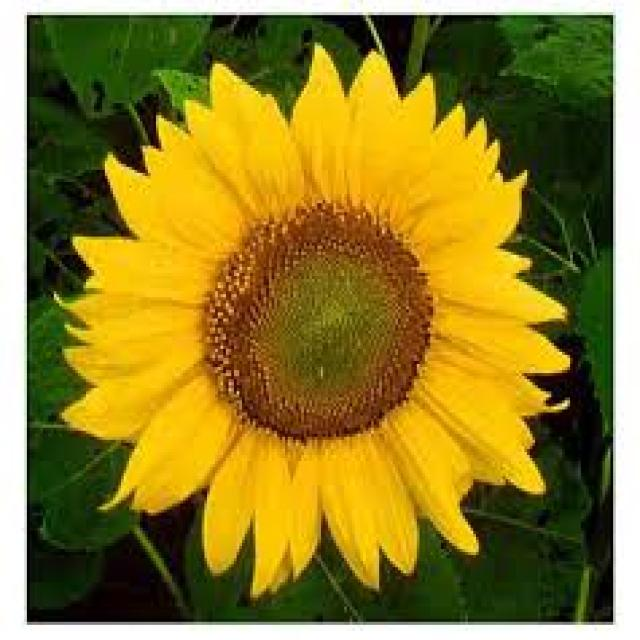sunflower: (49, 38, 576, 608)
